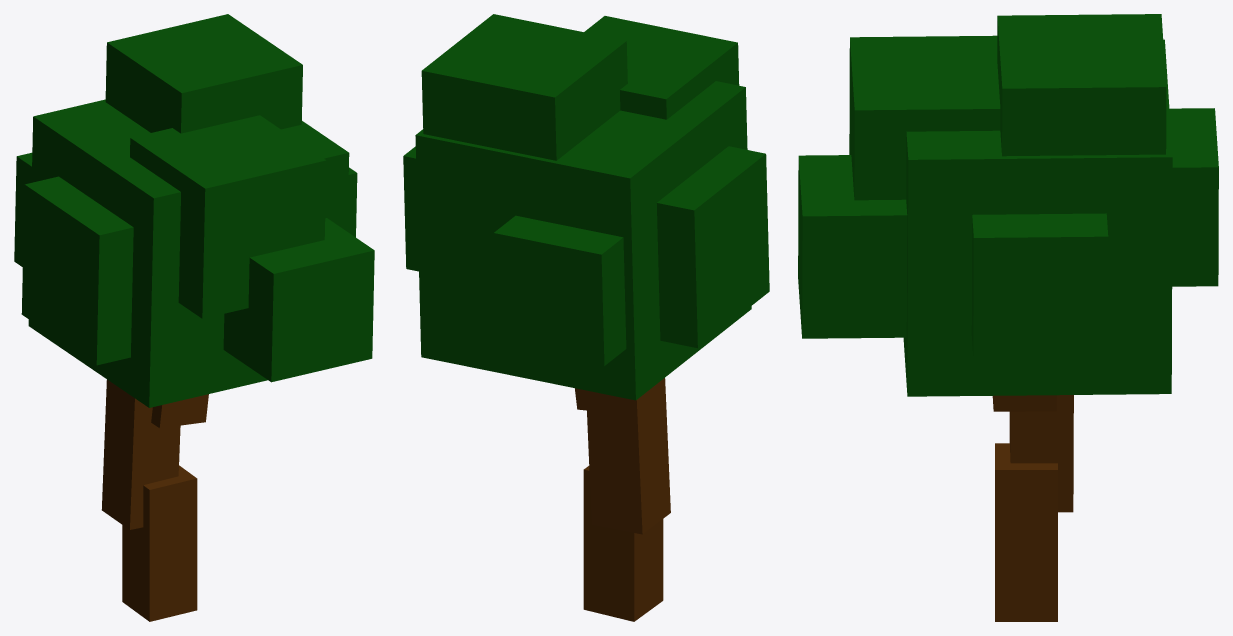
File: tree.glb
The picture shows the model from 3 angles, left to right: view 1: azimuth 30°, elevation 25°; view 2: azimuth 150°, elevation 25°; view 3: azimuth 270°, elevation 25°; orthographic projection. The views are drawn at different scales.
Parts seen in each view (by area): view 1: Cube.002; view 2: Cube.002; view 3: Cube.002.
Part boxes in pixels (left/top/right/bottom): Cube.002: left=14, top=14, right=374, bottom=621; Cube.002: left=403, top=14, right=769, bottom=621; Cube.002: left=798, top=14, right=1218, bottom=621.
Size of the model in its own units: 9.06 by 16.14 by 10.29.
Materials: 1 (1 with a texture image).
